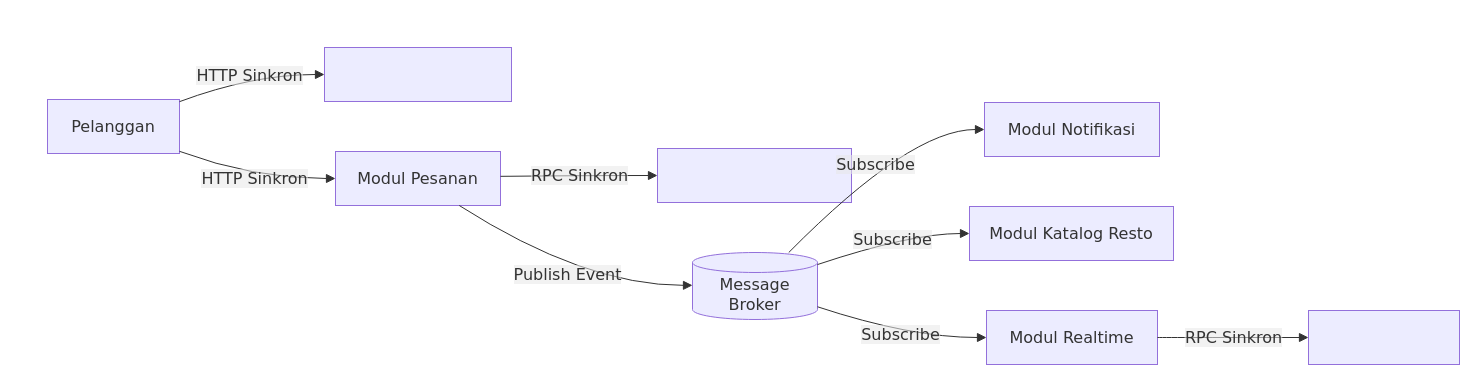
This 1477x382 diagram has some shape labels left out. Each missing label, with the centre of its shape:
"Modul Autentikasi" goes at (418,74).
"Modul Lokasi" goes at (1384,337).
"Modul Pembayaran" goes at (754,175).
